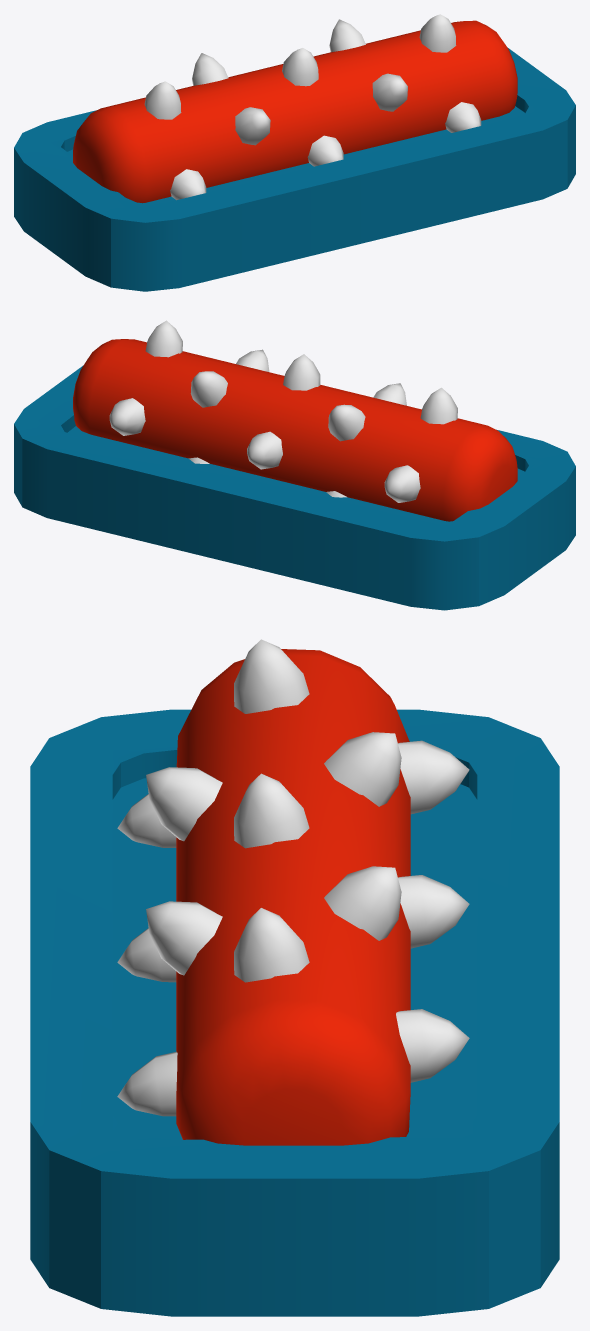
Rendered from Obs_3.fbx.
3 renders of one model, top to bottom at view 1: azimuth 30°, elevation 25°; view 2: azimuth 150°, elevation 25°; view 3: azimuth 270°, elevation 25°, orthographic. The views are drawn at different scales.
Visible parts, largest first — view 1: Obs_3; view 2: Obs_3; view 3: Obs_3.
Boxes of the visible parts, x1,y1,x2,y2 form: Obs_3: [14, 14, 575, 291]; Obs_3: [14, 320, 575, 610]; Obs_3: [30, 639, 559, 1316].
Bounding box in the file's own units: 244 × 77.44 × 116.
